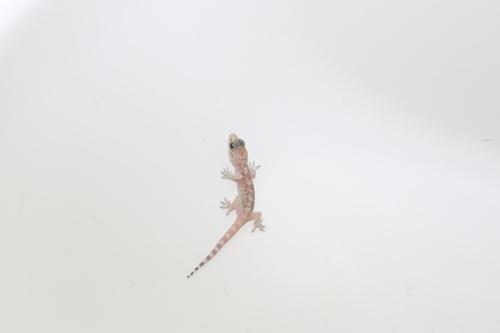lizard: (185, 133, 267, 273)
